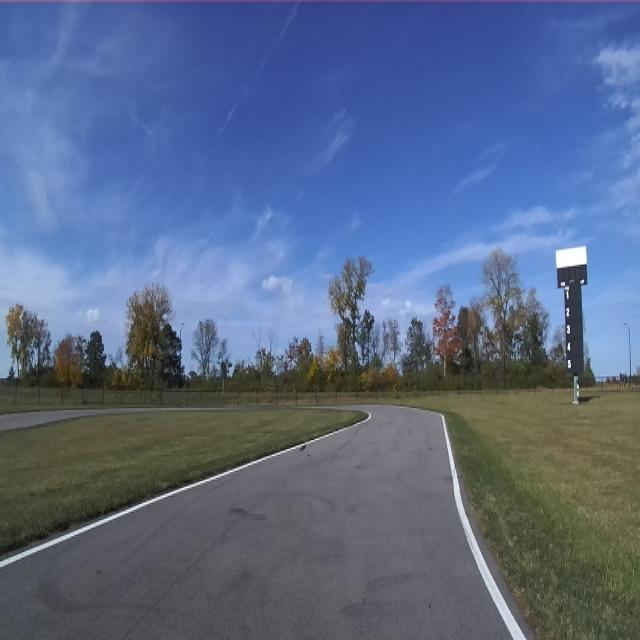white-line: (0, 411, 371, 570), (415, 408, 525, 639)
